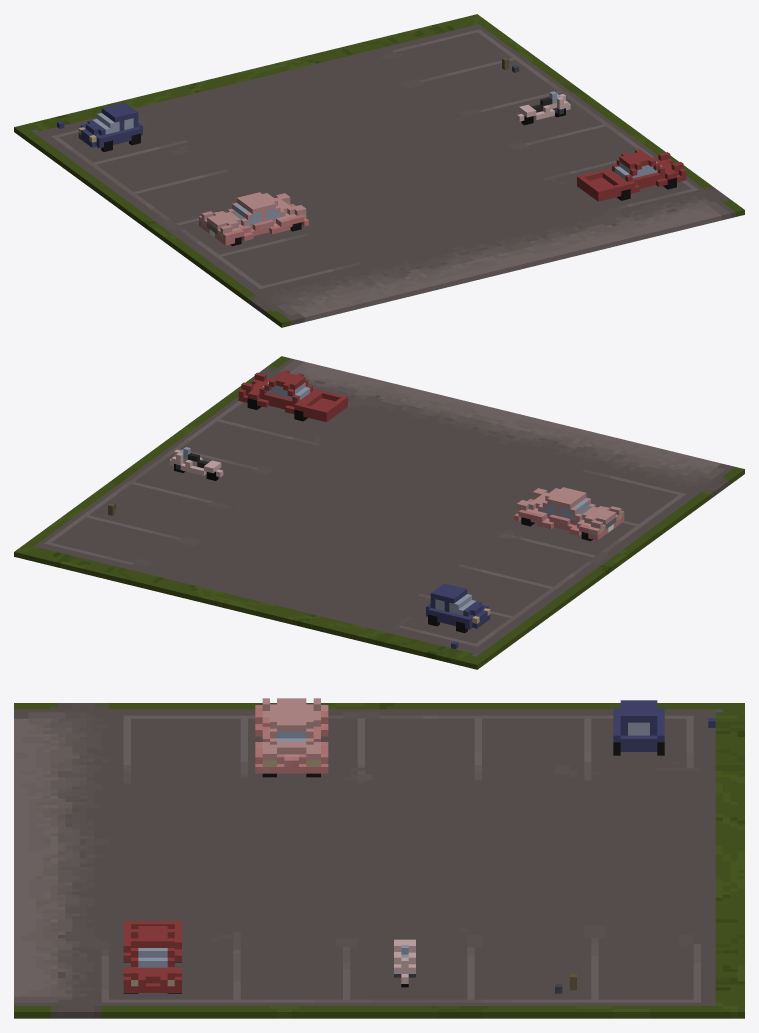
File: Parking.obj
3 renders of one model, top to bottom at view 1: azimuth 30°, elevation 25°; view 2: azimuth 150°, elevation 25°; view 3: azimuth 270°, elevation 25°, orthographic. The views are drawn at different scales.
Bounding box in the file's own units: 10 × 0.7 × 10.
1 material, 1 textured.
